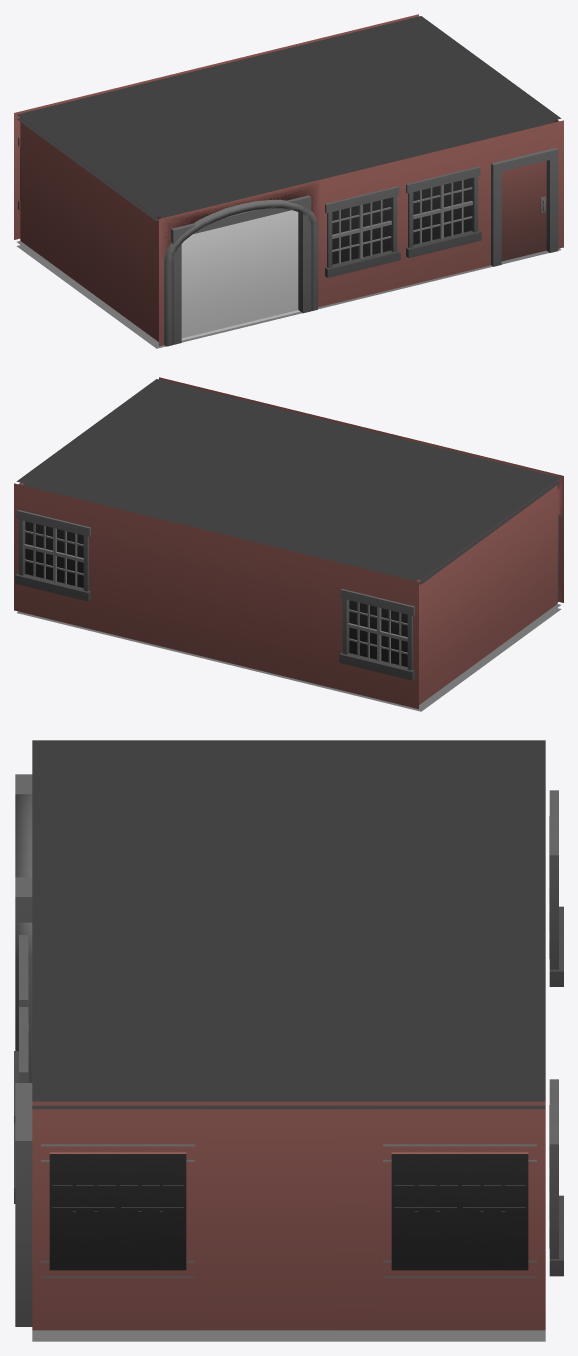
Rendered from reactor-annex.glb.
The picture shows the model from 3 angles, top to bottom: view 1: azimuth 30°, elevation 25°; view 2: azimuth 150°, elevation 25°; view 3: azimuth 270°, elevation 25°; orthographic projection. The views are drawn at different scales.
Parts seen in each view (by area): view 1: TreyIndustrialReactorAnnexVisual; view 2: TreyIndustrialReactorAnnexVisual; view 3: TreyIndustrialReactorAnnexVisual.
Part boxes in pixels (<box>): TreyIndustrialReactorAnnexVisual: <box>14,14,563,348</box>; TreyIndustrialReactorAnnexVisual: <box>14,377,563,711</box>; TreyIndustrialReactorAnnexVisual: <box>14,740,563,1341</box>.
Bounding box in the file's own units: 10 × 3.1 × 6.43.
Materials: 1 (1 with a texture image).
